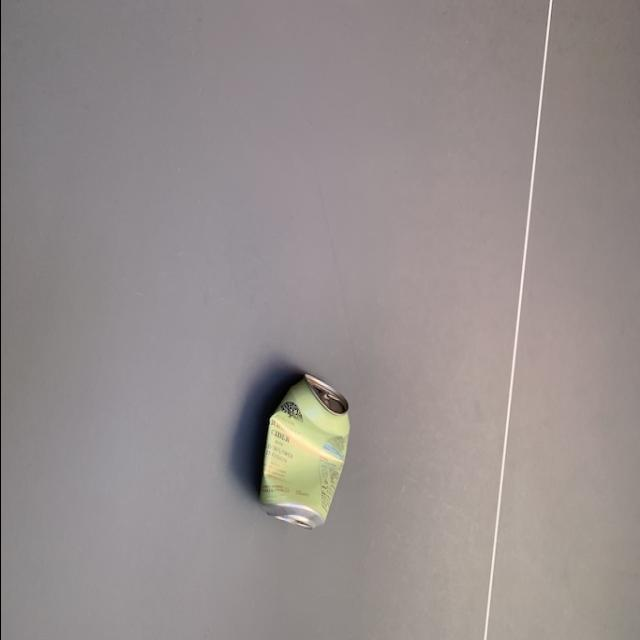litter: (247, 372, 351, 530)
